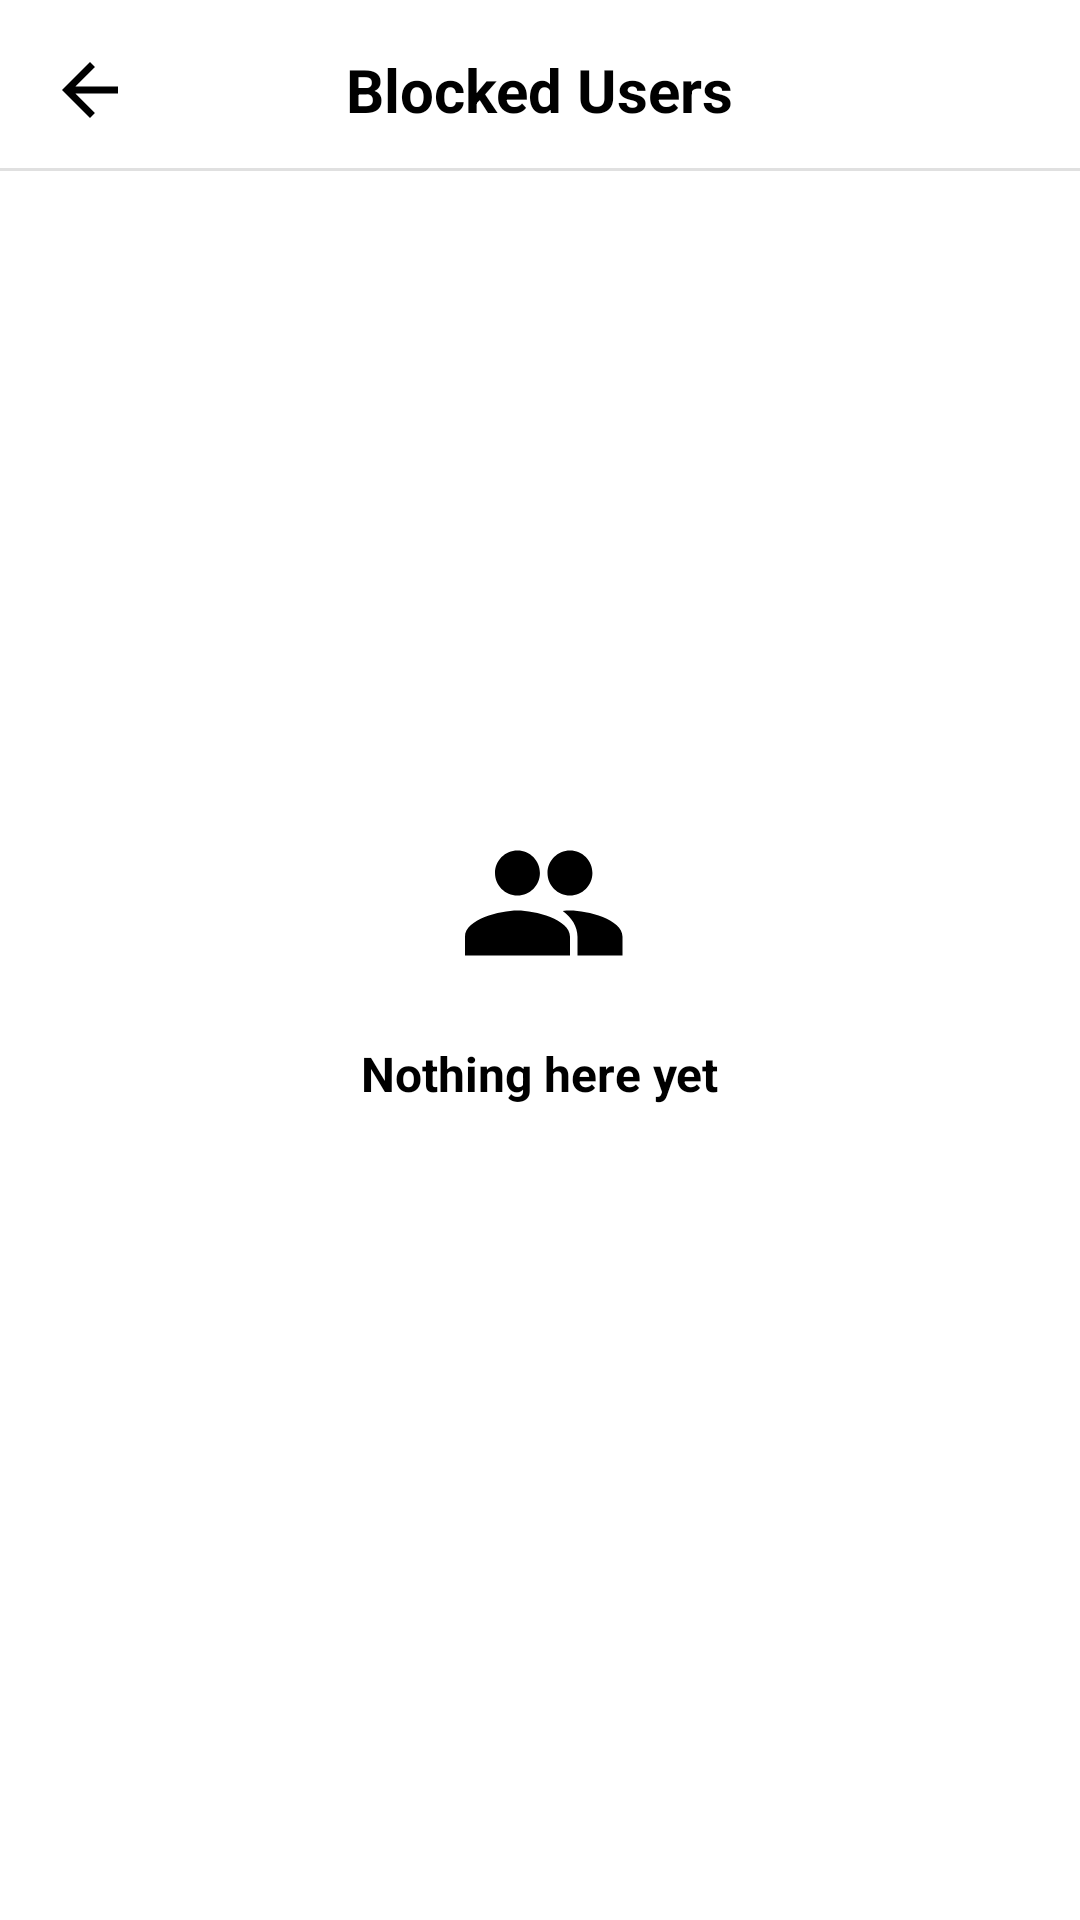

Icon bounding boxes for this 1080×1920 phone screenshot, format (left=x1, top=y1, right=x2, bottom=y2):
arrow back: (left=62, top=62, right=118, bottom=118)
community: (left=465, top=850, right=623, bottom=956)
